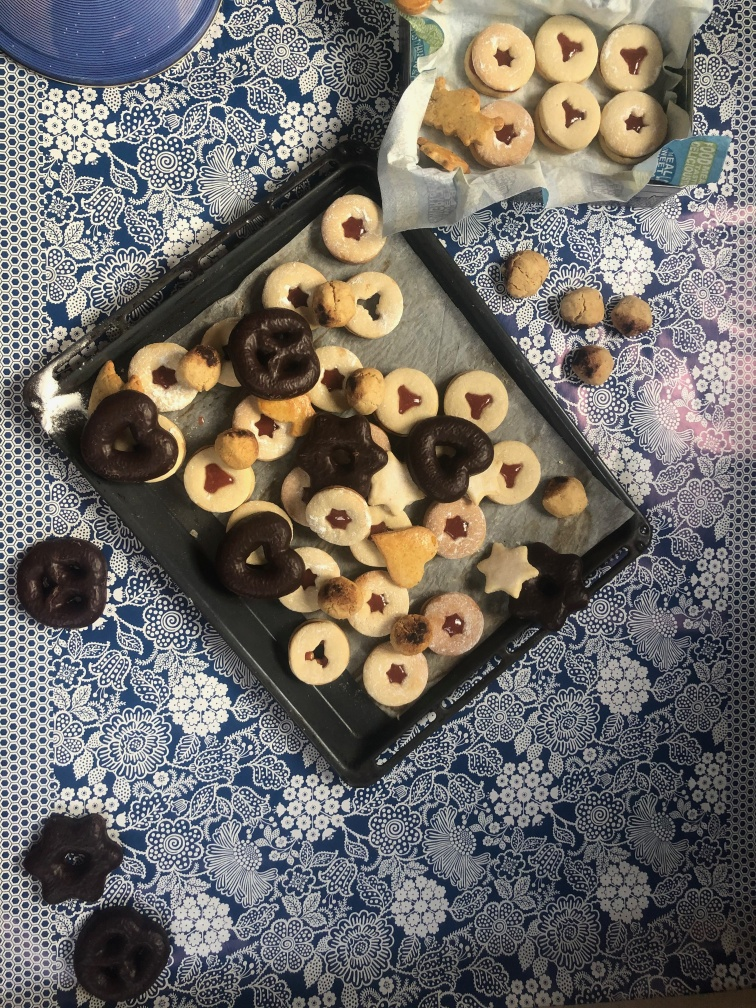bretzel: (72, 907, 172, 1002), (9, 534, 107, 629)
christmas shortbread with jam: (600, 93, 674, 166), (461, 22, 536, 93), (600, 18, 666, 95), (538, 82, 600, 158), (285, 618, 348, 690), (130, 340, 194, 408), (444, 365, 513, 427), (186, 445, 252, 509), (533, 11, 595, 79), (344, 270, 405, 338), (362, 644, 427, 705), (350, 568, 405, 638), (264, 266, 329, 325), (307, 484, 368, 545), (478, 99, 538, 161), (322, 193, 380, 257), (423, 500, 483, 560), (427, 593, 482, 657), (492, 440, 545, 506), (383, 367, 431, 431), (236, 401, 290, 454)
heart: (83, 393, 174, 482), (213, 512, 305, 596), (411, 415, 493, 500), (372, 523, 439, 590)
santa claus: (423, 72, 499, 147)
snowball: (316, 275, 367, 327), (500, 249, 551, 296), (566, 340, 612, 392), (556, 286, 606, 333), (605, 292, 656, 334), (344, 365, 384, 418), (542, 474, 586, 519), (317, 574, 356, 622), (391, 610, 433, 654), (177, 344, 218, 388), (217, 433, 256, 466)
star: (13, 810, 129, 903), (291, 411, 389, 501), (515, 547, 589, 635), (473, 538, 541, 603)
